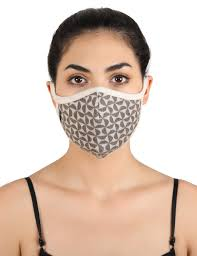with-mask: (42, 19, 160, 162)
